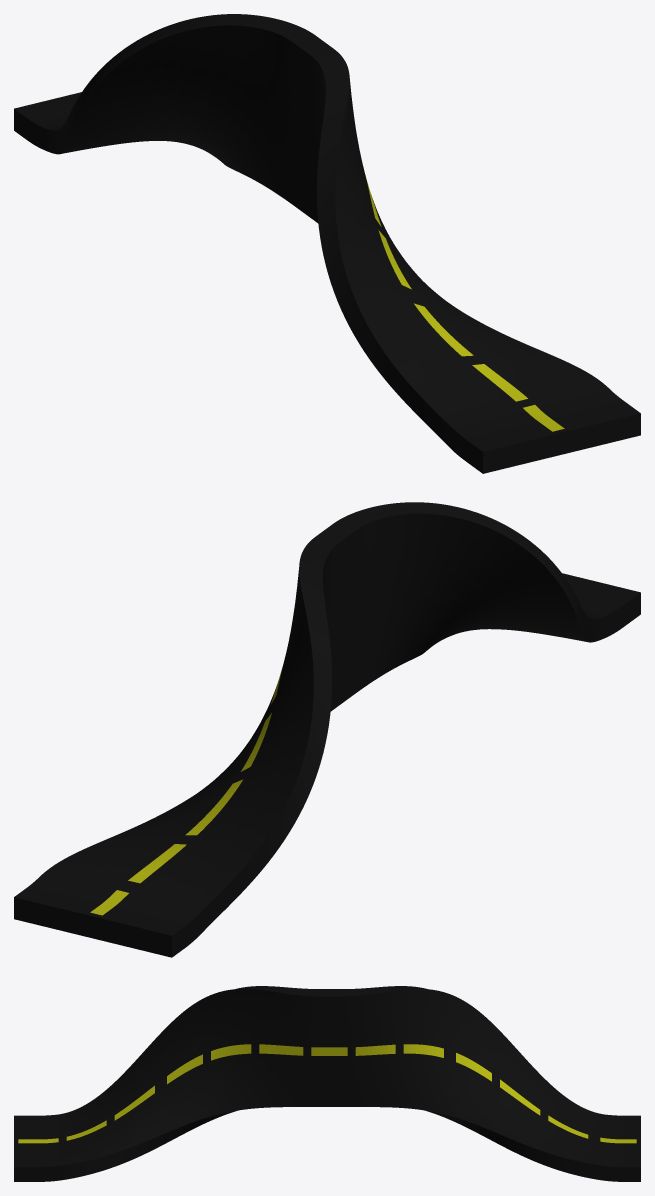
The model's file is RoadSidewaysHump.fbx.
3 views of the same model, one above another, from view 1: azimuth 30°, elevation 25°; view 2: azimuth 150°, elevation 25°; view 3: azimuth 270°, elevation 25° (orthographic). The views are drawn at different scales.
Visible parts, largest first — view 1: Cube.001; view 2: Cube.001; view 3: Cube.001.
Boxes of the visible parts, x1,y1,x2,y2 form: Cube.001: (14, 14, 640, 473); Cube.001: (14, 502, 640, 957); Cube.001: (14, 986, 640, 1181).
Bounding box in the file's own units: 1374 × 1602 × 5703.
